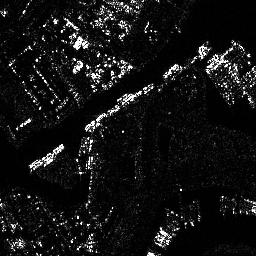ship: (163, 62, 178, 80), (85, 120, 95, 131)
